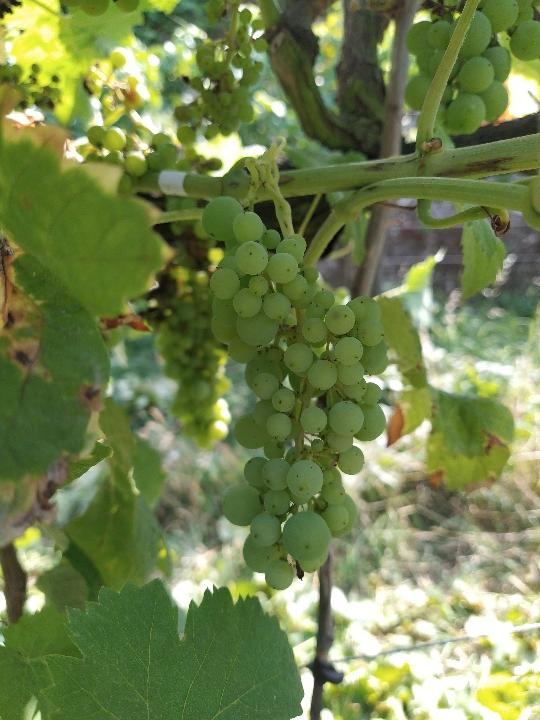grape: (199, 192, 389, 594)
